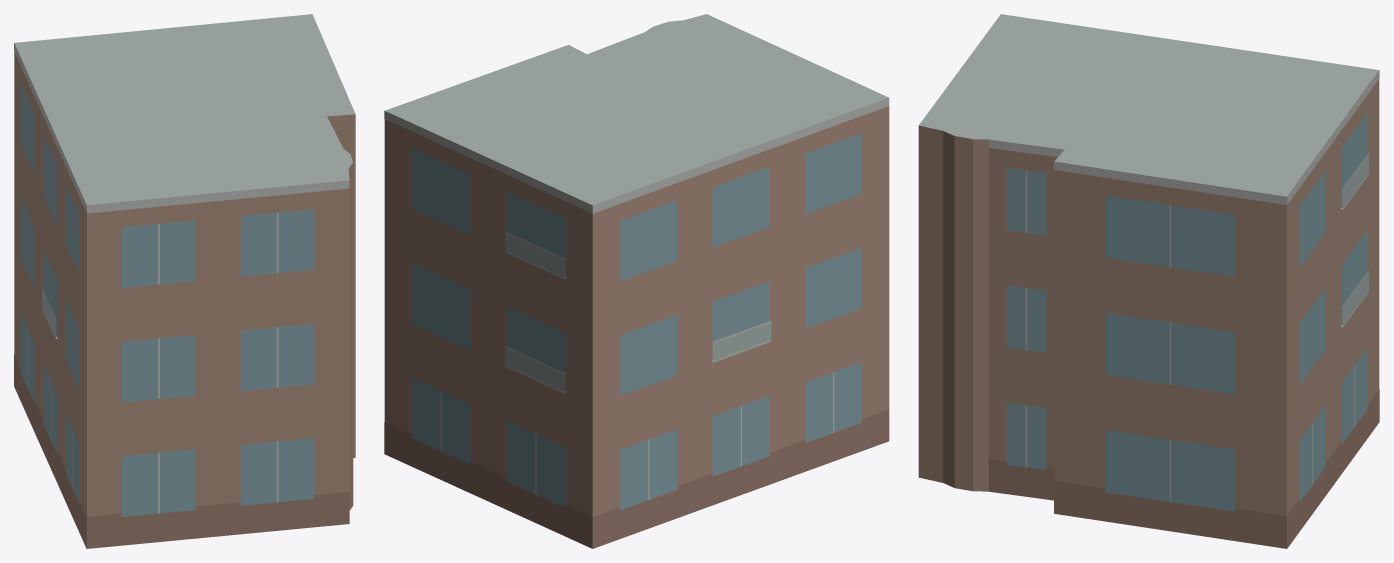
The model's file is survey-upis-32932619.glb.
The picture shows the model from 3 angles, left to right: view 1: azimuth 30°, elevation 25°; view 2: azimuth 150°, elevation 25°; view 3: azimuth 270°, elevation 25°; orthographic projection. The views are drawn at different scales.
Visible parts, largest first — view 1: survey-upis-32932619.tmp; view 2: survey-upis-32932619.tmp; view 3: survey-upis-32932619.tmp.
Boxes of the visible parts, x1,y1,x2,y2 form: survey-upis-32932619.tmp: (14, 14, 355, 548); survey-upis-32932619.tmp: (384, 14, 889, 548); survey-upis-32932619.tmp: (918, 14, 1379, 548).
Bounding box in the file's own units: 11.36 × 10.2 × 12.1.
